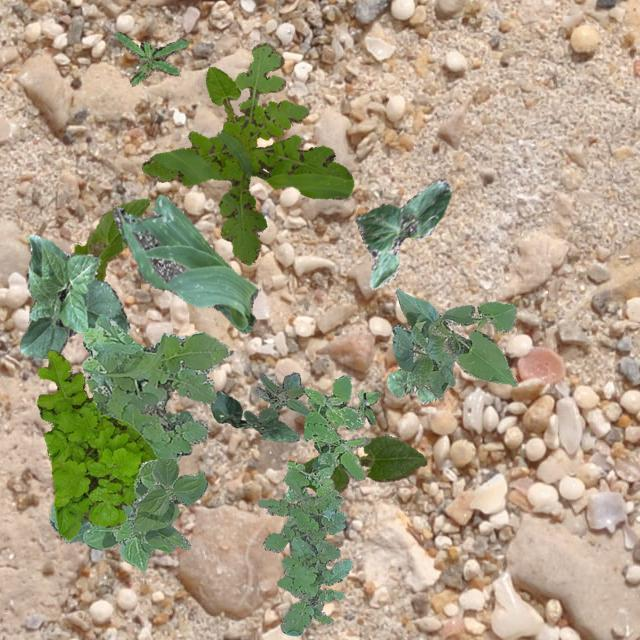crop: (112, 194, 256, 332), (49, 454, 180, 570), (18, 234, 128, 358), (392, 288, 516, 398), (354, 178, 450, 288), (120, 457, 207, 552), (302, 434, 426, 492), (71, 198, 149, 280), (210, 390, 298, 440), (204, 66, 256, 146), (386, 368, 434, 403), (162, 398, 194, 422)
weed: (140, 42, 352, 264), (36, 348, 158, 538), (80, 312, 232, 458), (256, 468, 352, 634), (282, 374, 369, 512), (114, 30, 190, 84), (254, 372, 310, 419), (358, 388, 378, 424)
